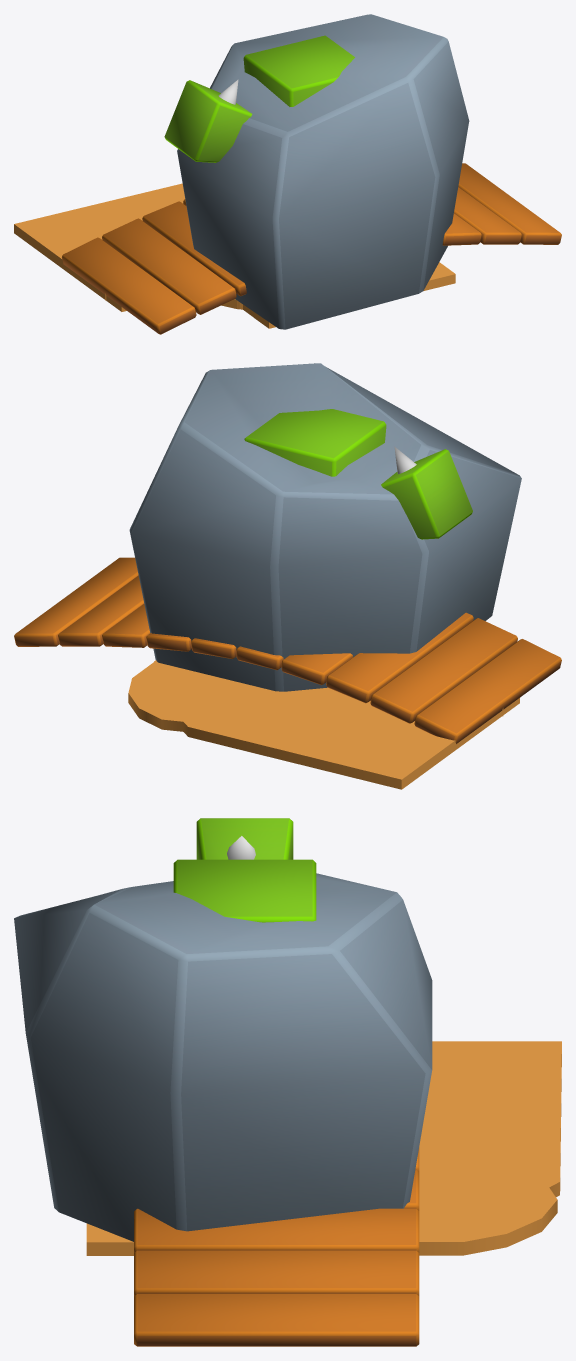
Rendered from map_environment 1.fbx.
The picture shows the model from 3 angles, top to bottom: view 1: azimuth 30°, elevation 25°; view 2: azimuth 150°, elevation 25°; view 3: azimuth 270°, elevation 25°; orthographic projection. The views are drawn at different scales.
Visible parts, largest first — view 1: rock, bridge, cactoos1, 90; view 2: rock, bridge, 90, cactoos1, 45; view 3: rock, bridge, 90, cactoos1, 45, road.
Boxes of the visible parts, x1=… form: rock: x1=177, y1=14, x2=469, y2=329; bridge: x1=62, y1=163, x2=561, y2=334; cactoos1: x1=164, y1=35, x2=354, y2=162; 90: x1=14, y1=183, x2=455, y2=328; rock: x1=129, y1=363, x2=521, y2=691; bridge: x1=14, y1=557, x2=561, y2=743; 90: x1=128, y1=660, x2=519, y2=789; cactoos1: x1=244, y1=409, x2=472, y2=539; 45: x1=183, y1=668, x2=503, y2=730; rock: x1=14, y1=873, x2=432, y2=1241; bridge: x1=134, y1=1147, x2=419, y2=1346; 90: x1=86, y1=1041, x2=561, y2=1255; cactoos1: x1=173, y1=818, x2=316, y2=922; 45: x1=86, y1=1148, x2=468, y2=1242; road: x1=86, y1=1224, x2=133, y2=1255.
Bounding box in the file's own units: 4.34 × 2.25 × 3.46.
2 materials, 1 textured.
